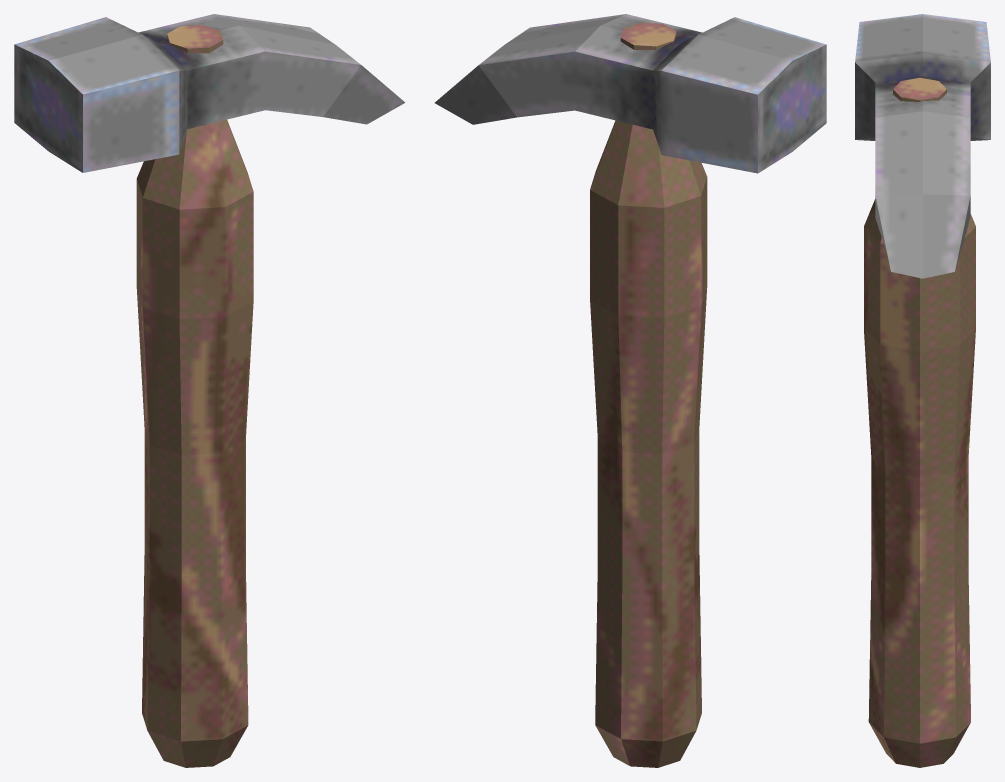
File: hammer.fbx
The picture shows the model from 3 angles, left to right: view 1: azimuth 30°, elevation 25°; view 2: azimuth 150°, elevation 25°; view 3: azimuth 270°, elevation 25°; orthographic projection. The views are drawn at different scales.
Visible parts, largest first — view 1: gammer; view 2: gammer; view 3: gammer.
Part boxes in pixels (bbox=[...]): gammer: bbox=[14, 14, 405, 767]; gammer: bbox=[434, 14, 826, 767]; gammer: bbox=[855, 14, 990, 767].
Size of the model in its own units: 65.13 by 134 by 24.31.
